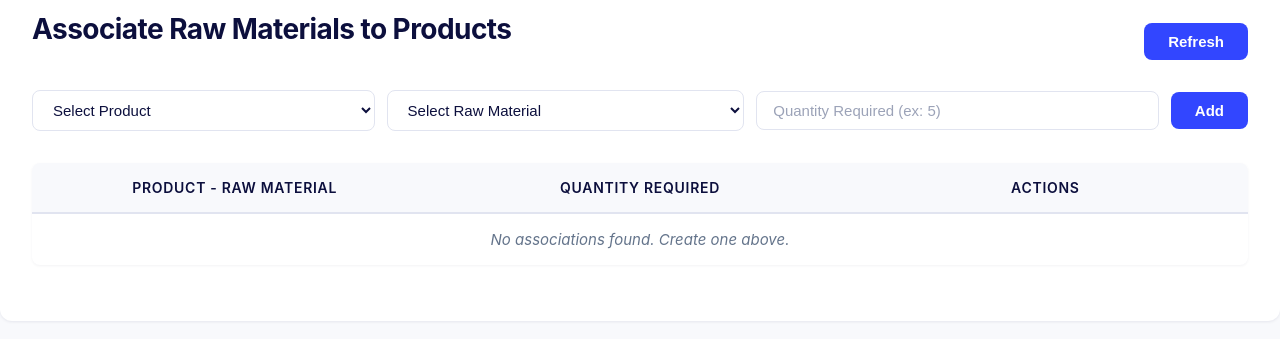
Test case: ProductRawMaterials Component - Suite Completa › Criar Nova Associação › reseta formulário após criar associação com sucesso
Select "PC Gamer ($100)" in the 1st dropdown at [203, 110], box [32, 90, 375, 131]
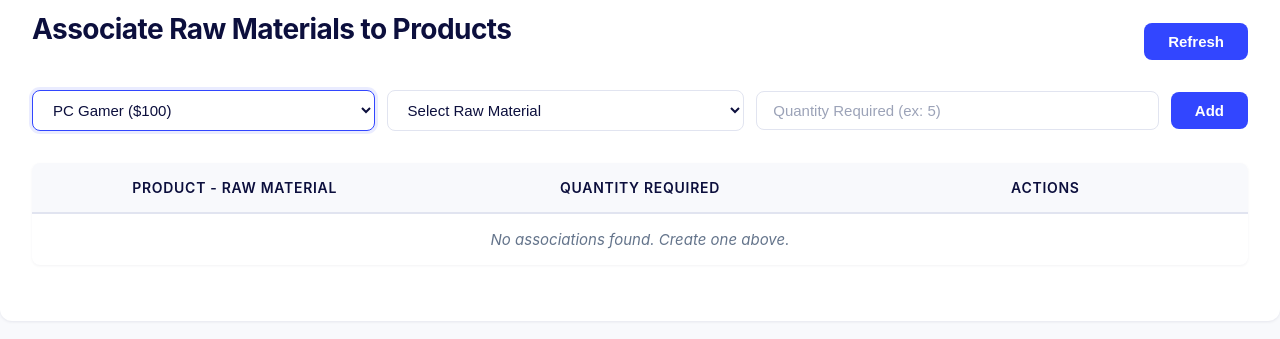
Select "CPU - Stock: 10" in the 2nd dropdown at [565, 110], box [387, 90, 744, 131]
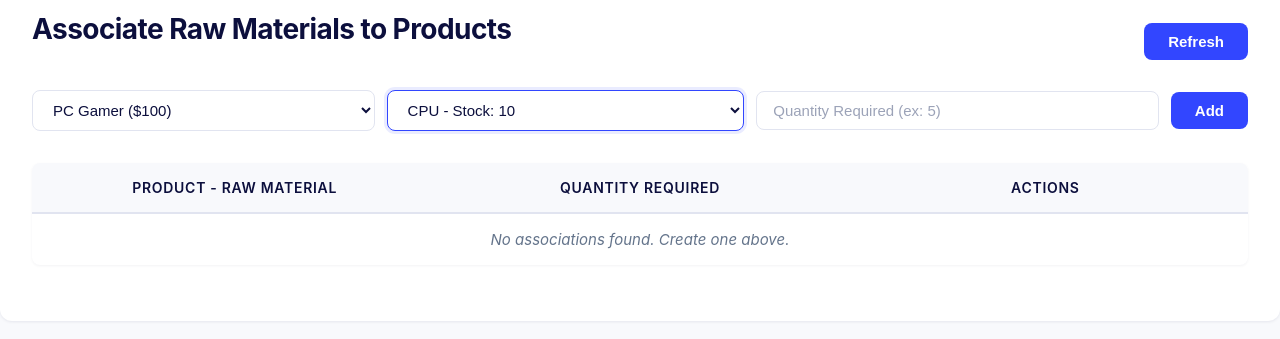
Type "5" into the number field with placeholder "Quantity Required (ex: 5)" at [958, 110], box [756, 91, 1159, 130]
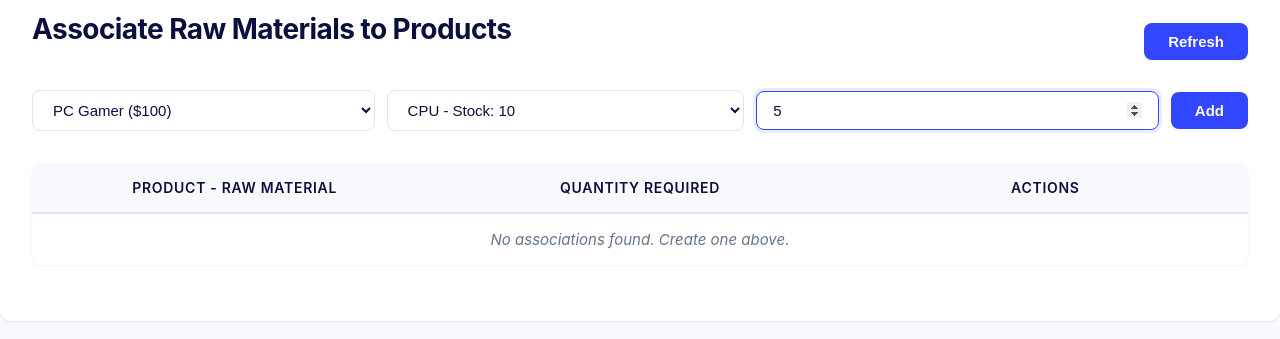
Click the button "Add" at [1209, 110], box [1171, 92, 1248, 129]
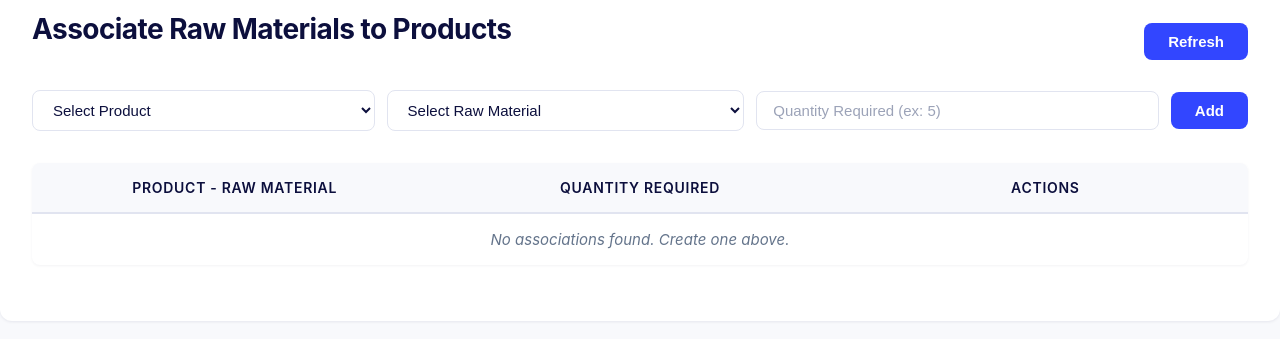
Expected: the number field with placeholder "Quantity Required (ex: 5)" is not empty, [756, 91, 1159, 130]
